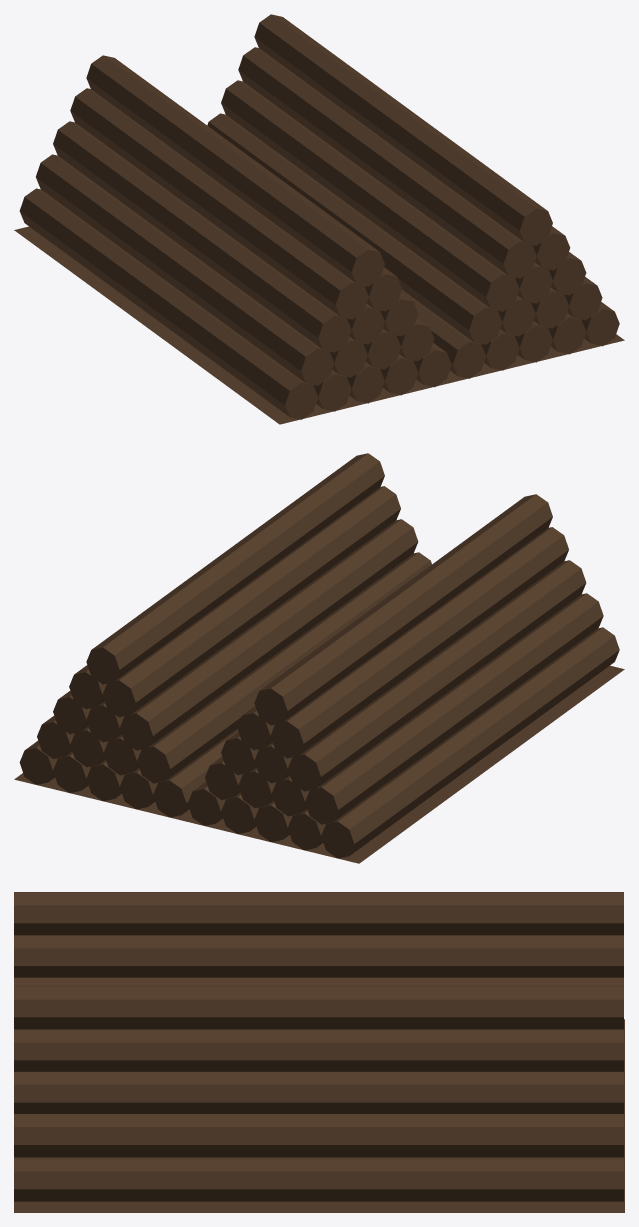
The model's file is WoodStockpile.fbx.
3 renders of one model, top to bottom at view 1: azimuth 30°, elevation 25°; view 2: azimuth 150°, elevation 25°; view 3: azimuth 270°, elevation 25°, orthographic. The views are drawn at different scales.
Parts seen in each view (by area): view 1: Log_14, Log_14.001, Log_8, Log_3, Log_10, Log_10.001, Log_13.001, Log_13, Log_8.001, LogStockpile, Log_3.001, Log_15 (+19 smaller); view 2: Log_14, Log_14.001, Log_8, Log_3, Log_10, Log_10.001, Log_13.001, Log_13, Log_8.001, LogStockpile, Log_3.001, Log_15.001 (+19 smaller); view 3: Log_5.001, Log_14.001, Log_15.001, Log_14, Log_11.001, Log_12.001, Log_12, LogStockpile, Log_11, Log_4.001.
Part boxes in pixels (left/top/right/bottom): Log_14: left=86, top=55, right=384, bottom=286; Log_14.001: left=254, top=14, right=552, bottom=245; Log_8: left=36, top=154, right=334, bottom=385; Log_3: left=19, top=188, right=318, bottom=419; Log_10: left=53, top=121, right=351, bottom=352; Log_10.001: left=221, top=80, right=519, bottom=311; Log_13.001: left=238, top=47, right=536, bottom=278; Log_13: left=70, top=88, right=368, bottom=319; Log_8.001: left=207, top=113, right=502, bottom=344; LogStockpile: left=14, top=226, right=624, bottom=424; Log_3.001: left=401, top=290, right=486, bottom=378; Log_15: left=413, top=343, right=451, bottom=387; Log_14: left=254, top=494, right=552, bottom=725; Log_14.001: left=86, top=453, right=384, bottom=684; Log_8: left=305, top=593, right=603, bottom=824; Log_3: left=321, top=627, right=619, bottom=858; Log_10: left=288, top=560, right=586, bottom=791; Log_10.001: left=120, top=519, right=418, bottom=750; Log_13.001: left=102, top=486, right=400, bottom=717; Log_13: left=270, top=527, right=568, bottom=758; Log_8.001: left=137, top=552, right=431, bottom=783; LogStockpile: left=14, top=665, right=624, bottom=863; Log_3.001: left=153, top=728, right=238, bottom=817; Log_15.001: left=19, top=741, right=57, bottom=784; Log_5.001: left=14, top=1114, right=623, bottom=1157; Log_14.001: left=14, top=986, right=623, bottom=1029; Log_15.001: left=14, top=1158, right=623, bottom=1201; Log_14: left=14, top=892, right=623, bottom=935; Log_11.001: left=14, top=1071, right=623, bottom=1113; Log_12.001: left=14, top=1029, right=623, bottom=1071; Log_12: left=14, top=935, right=623, bottom=977; LogStockpile: left=14, top=1019, right=624, bottom=1212; Log_11: left=14, top=977, right=623, bottom=986; Log_4.001: left=14, top=1157, right=623, bottom=1157.
Bounding box in the file's own units: 300 × 128 × 400.
